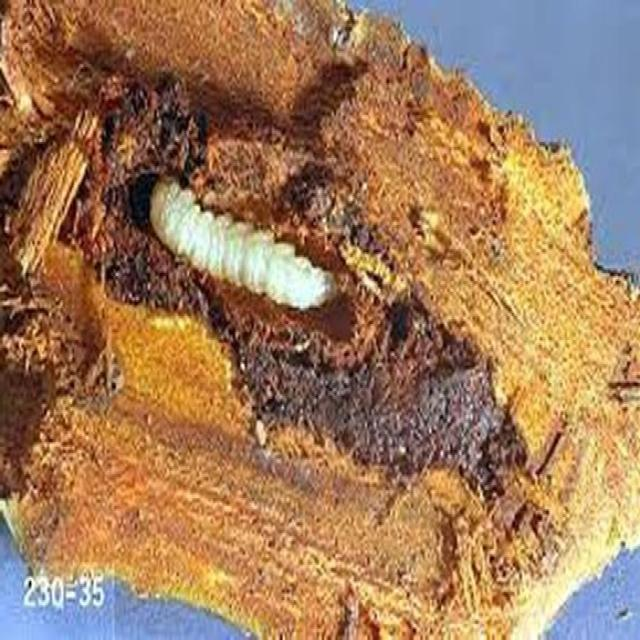peach borer: (146, 174, 342, 329)
